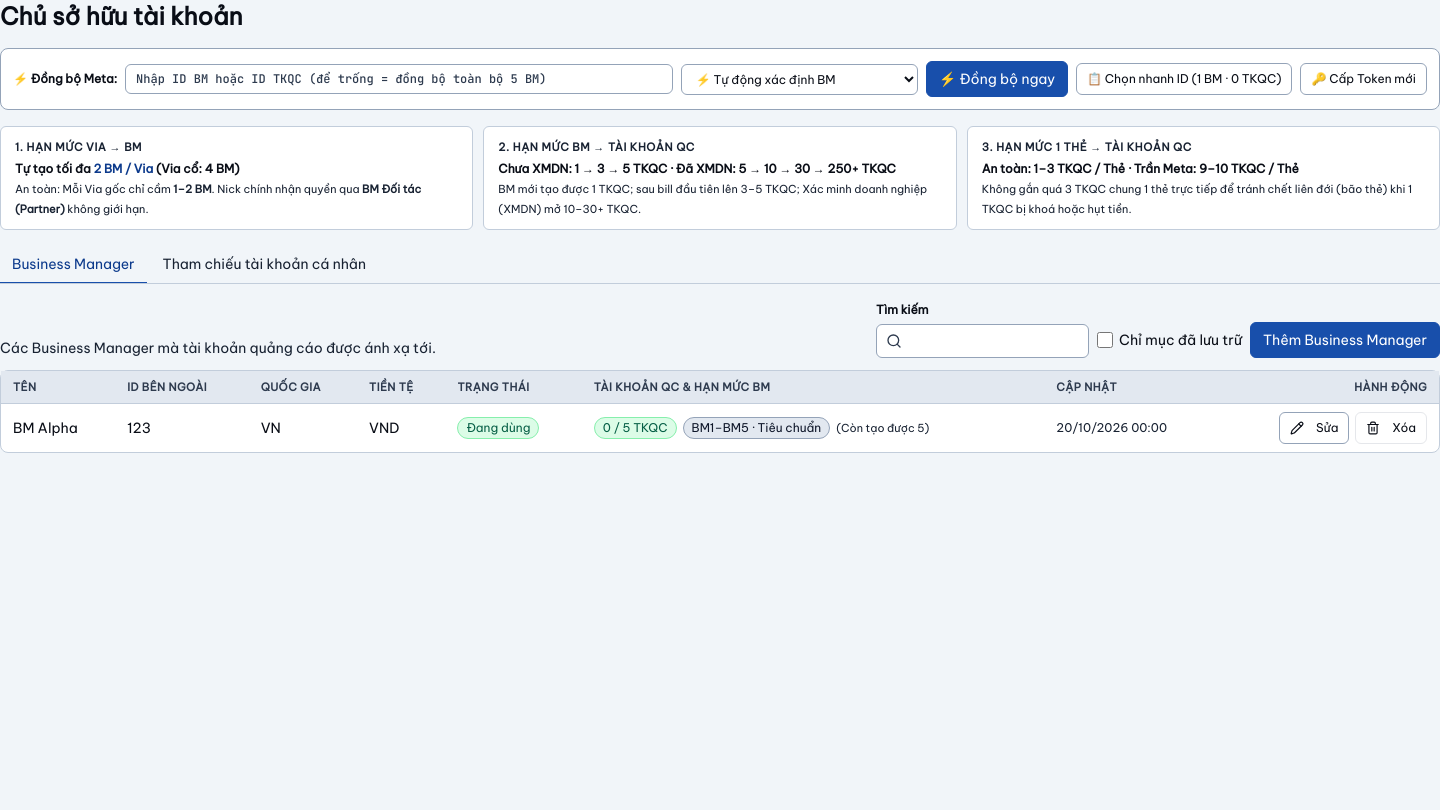
Test: Ownership references (BusinessManagers) › archives only after an AlertDialog confirmation, then reads the list back
The image size is (1440, 810).
Click the button with aria-label "Lưu trữ" at {"x": 1391, "y": 428}, box [1355, 412, 1427, 444]
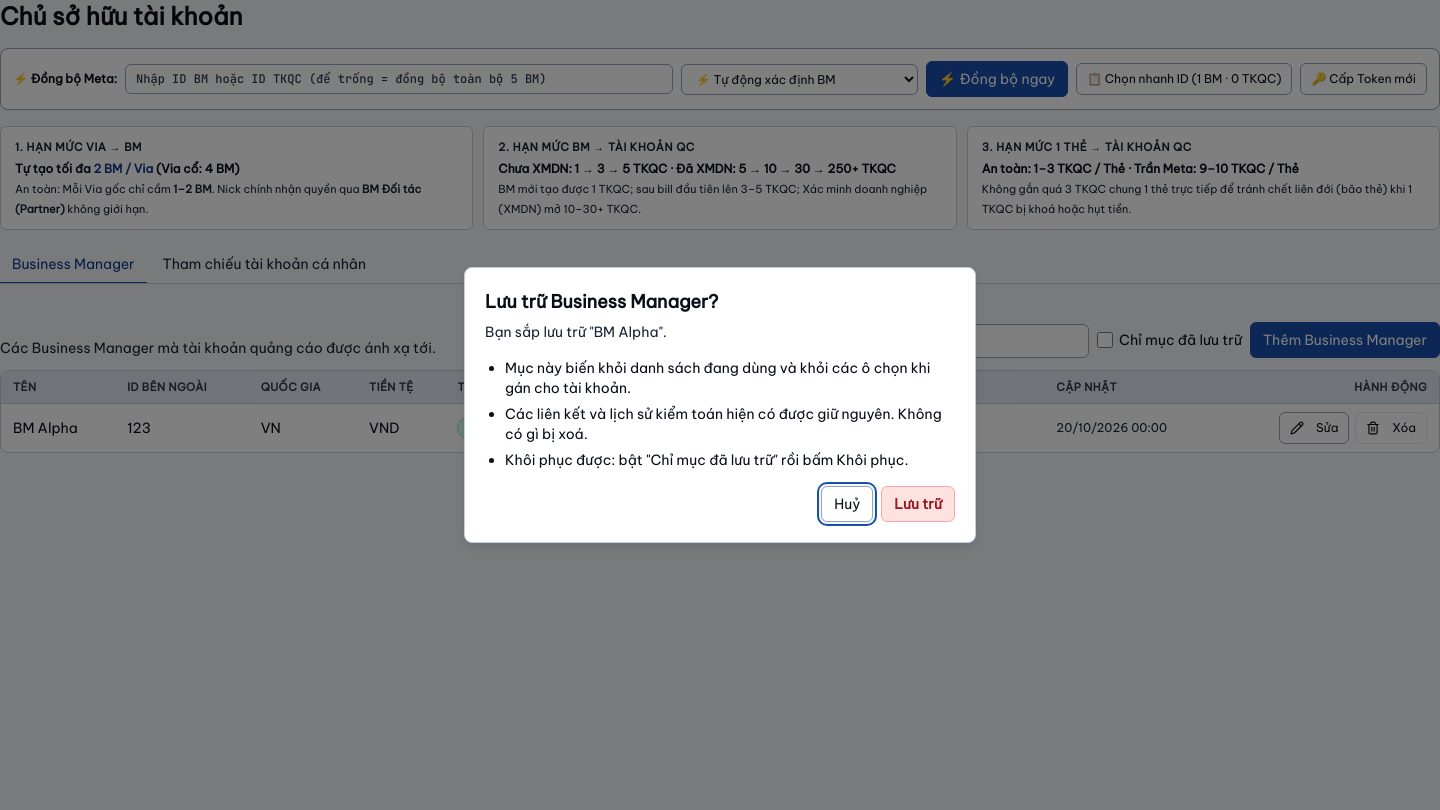
Expected: the dialog shows "\"BM Alpha\"", [485, 323, 667, 341]
Expected: the dialog shows "Khôi phục được", [505, 451, 908, 469]
Expected: the dialog shows "Không có gì bị xoá", [505, 405, 942, 443]
Click the button "Lưu trữ" at {"x": 918, "y": 504}, box [881, 486, 955, 522]
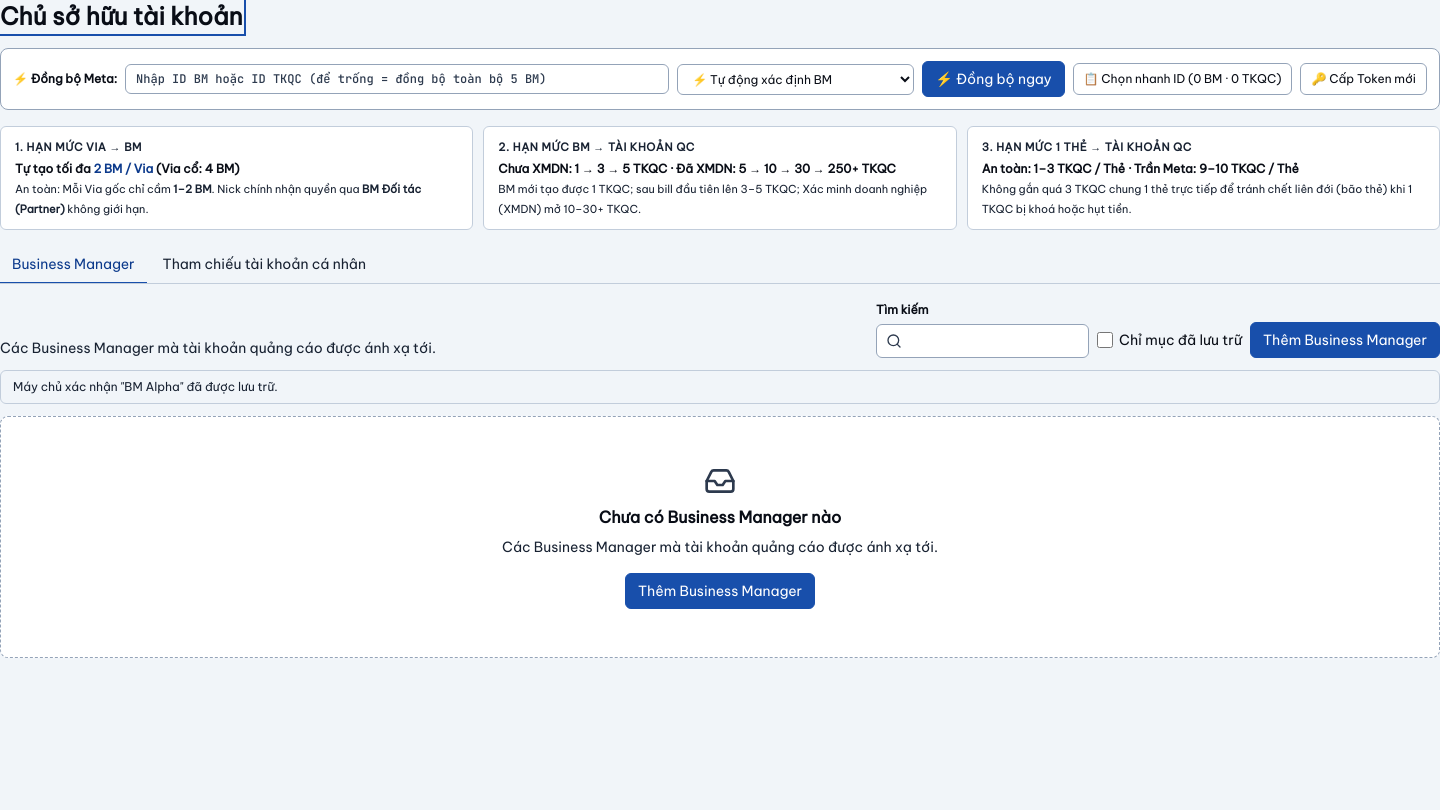
Expected: the text "Máy chủ xác nhận \"BM Alpha\" đã được lưu trữ." is shown, [0, 370, 1439, 404]
